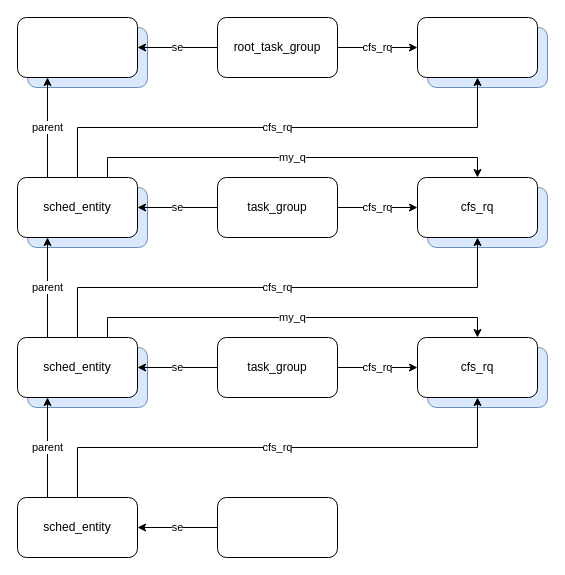
The diagram is 565 pixels wide and 575 high, and some of its shapes have lost their labels. Here are the shapes that lost their labels. From the top down, the centre of each, then its label:
At point (77, 47): "NULL".
At point (477, 47): "rq->cfs".
At point (277, 527): "task".
